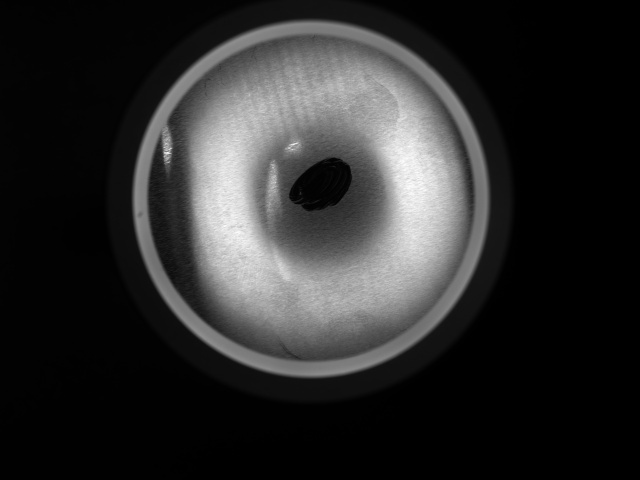zang_wu: (282, 155, 360, 213)
